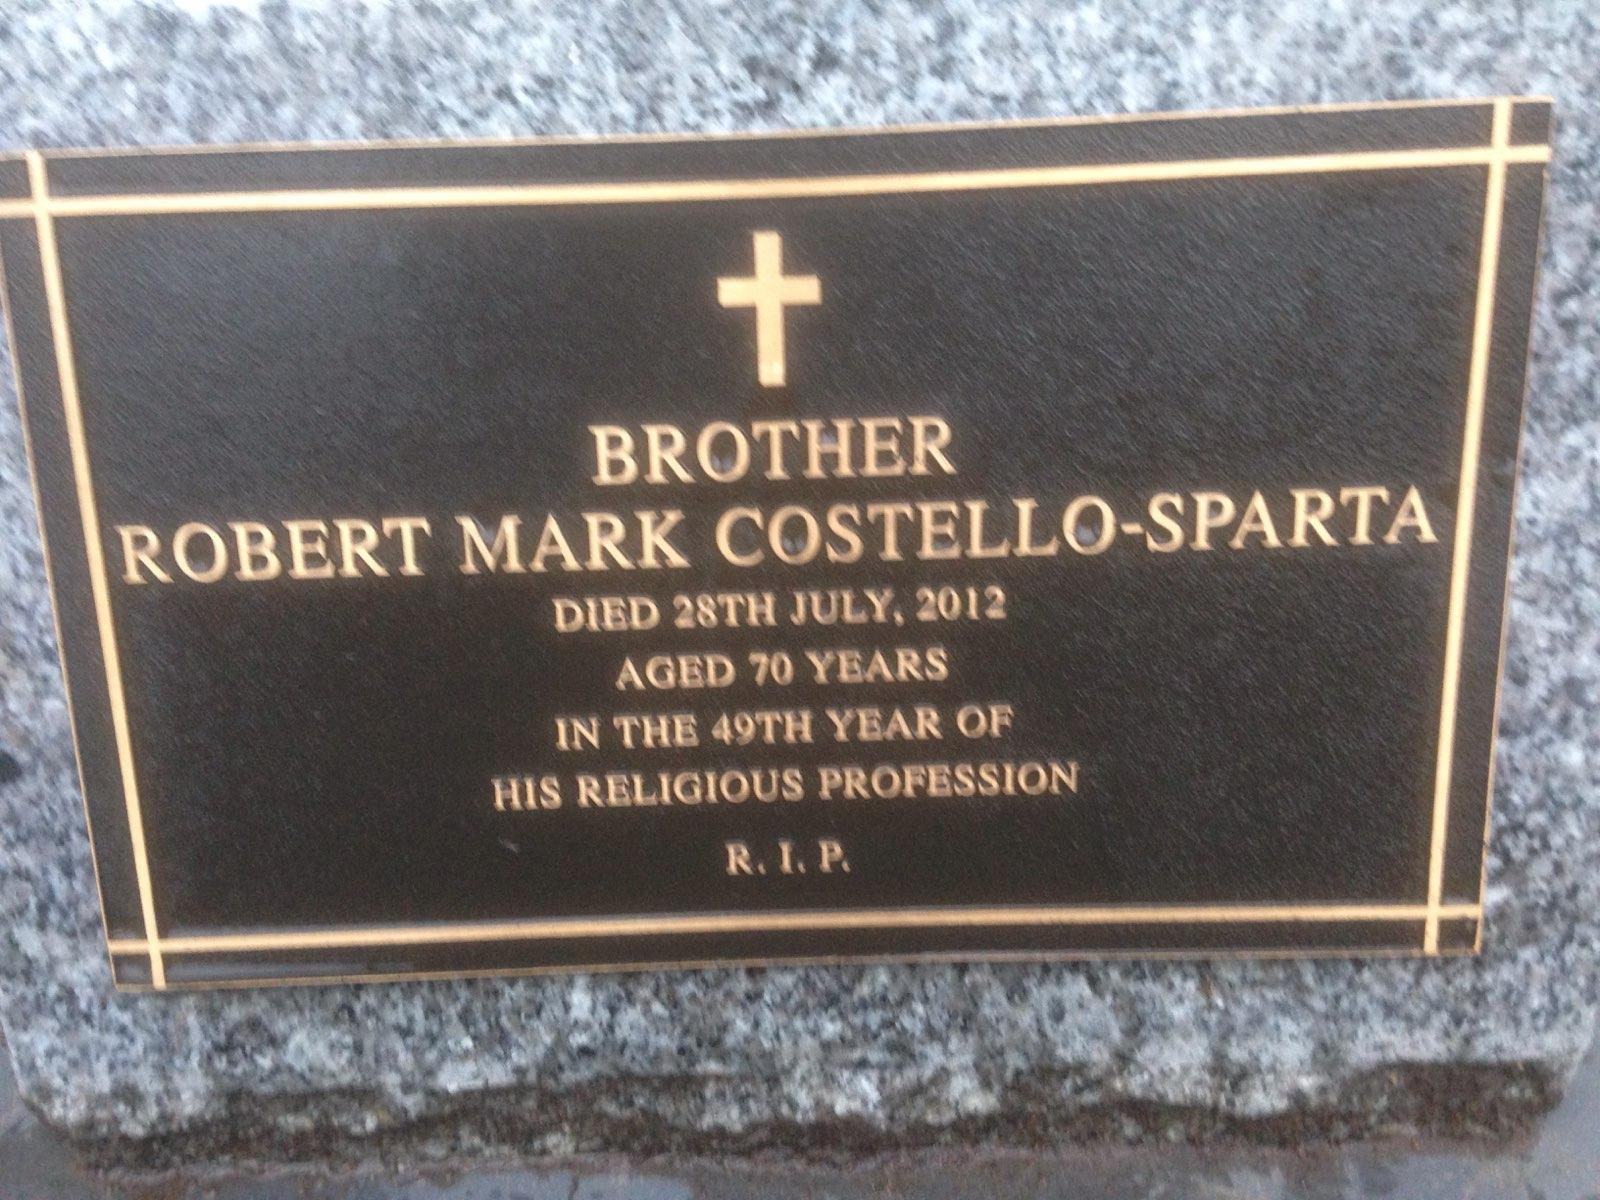plaque: (11, 118, 1560, 1005)
